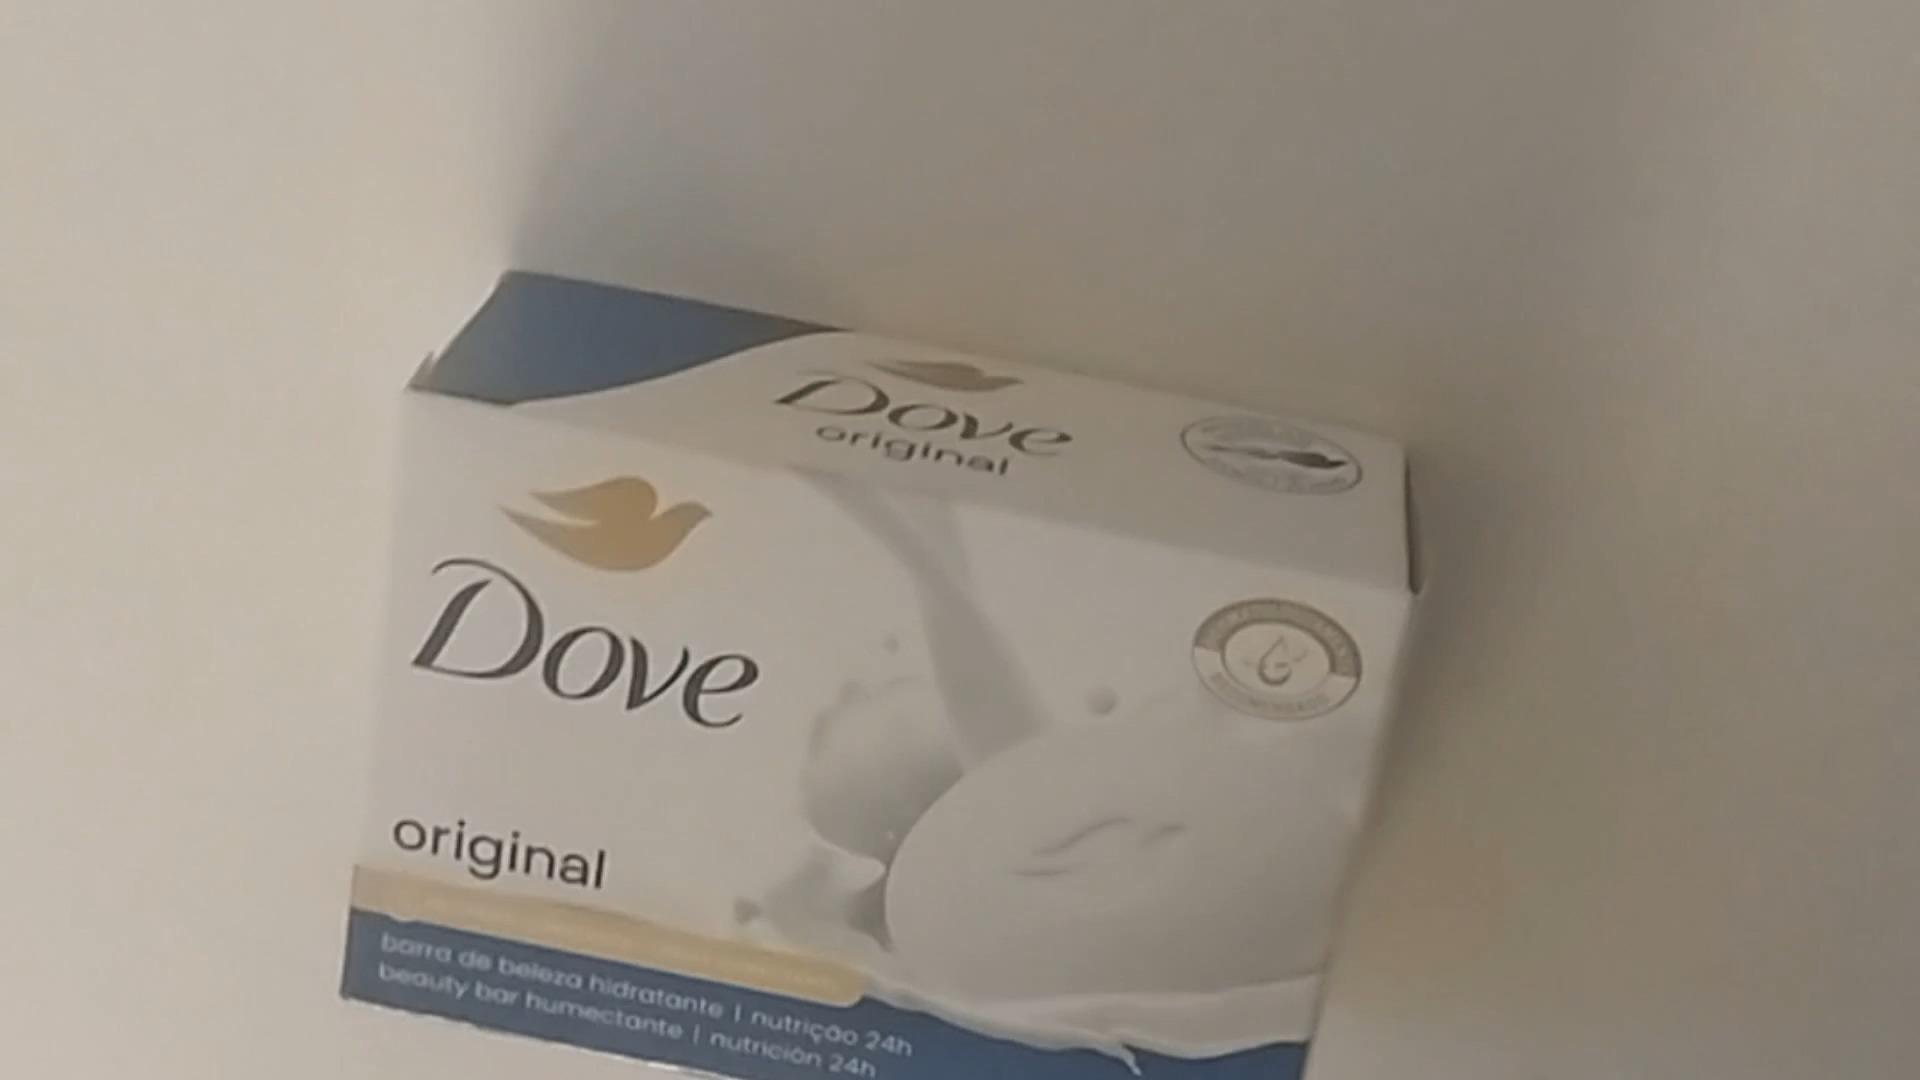soap: (342, 287, 1419, 1079)
